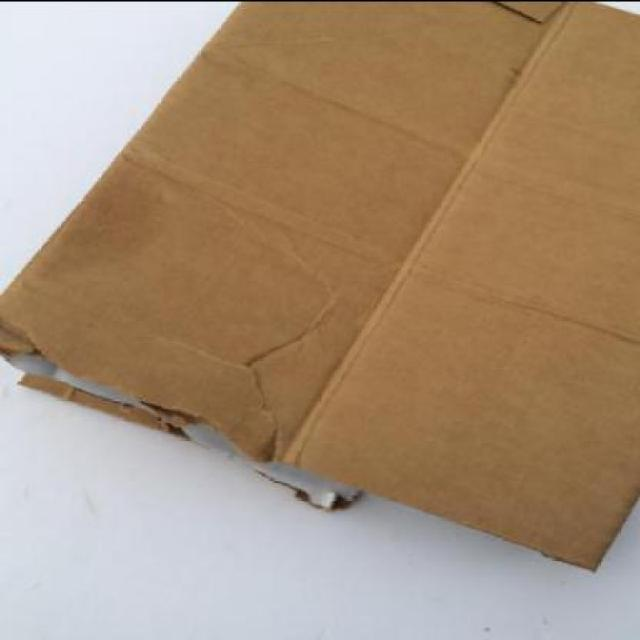CARDBOARD: (0, 0, 638, 569)
